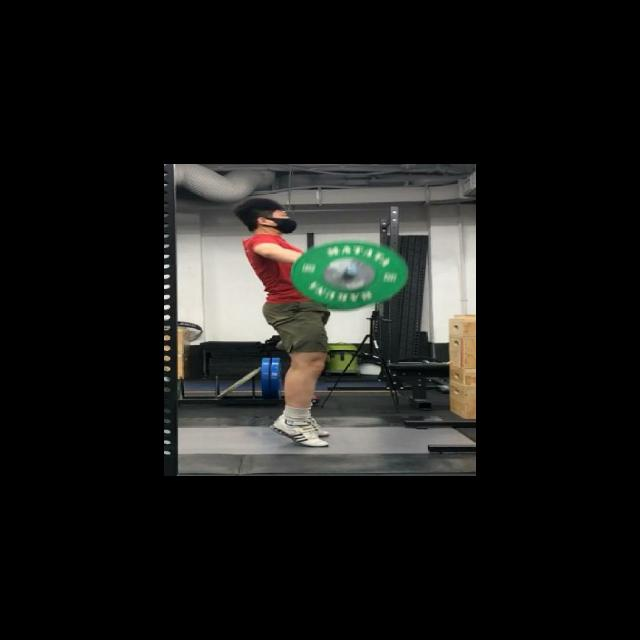barbell: (284, 238, 415, 312)
